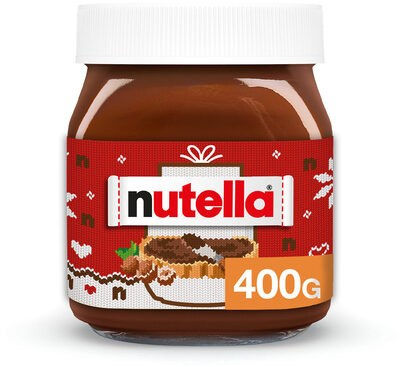Nutella: (20, 18, 380, 349)
